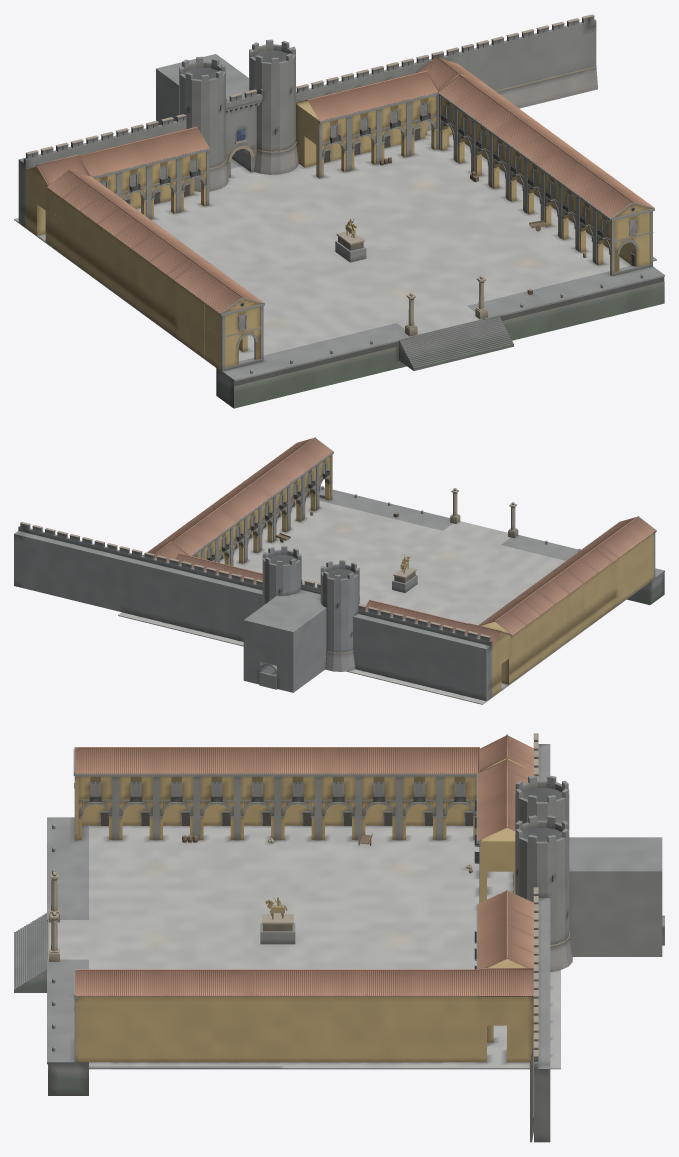
The model's file is terreiro.glb.
3 renders of one model, top to bottom at view 1: azimuth 30°, elevation 25°; view 2: azimuth 150°, elevation 25°; view 3: azimuth 270°, elevation 25°, orthographic. The views are drawn at different scales.
Visible parts, largest first — view 1: merged_terreiro_open_-3_-2, merged_terreiro_open_-3_-1, merged_terreiro_open_-2_-2, merged_terreiro_open_-1_-1, merged_terreiro_open_-1_-2, merged_terreiro_open_-2_-1, merged_terreiro_open_0_-3, tower_drum_8.002, tower_drum_8.001, water_stair_20.001, merged_terreiro_open_-1_-3, merged_terreiro_open_-3_-3 (+7 smaller); view 2: merged_terreiro_open_-2_-1, merged_terreiro_open_-1_-1, merged_terreiro_open_-3_-1, merged_terreiro_open_-3_-3, merged_terreiro_open_-3_-2, merged_terreiro_open_-1_-3, gate_passage_16.001, merged_terreiro_open_-1_-2, merged_terreiro_open_0_-3, tower_drum_8.001, merged_terreiro_open_-2_-3, merged_terreiro_open_-2_-2 (+3 smaller); view 3: merged_terreiro_open_-3_-2, merged_terreiro_open_-3_-1, merged_terreiro_open_-1_-2, merged_terreiro_open_-1_-1, merged_terreiro_open_-2_-1, merged_terreiro_open_-2_-2, gate_passage_16.001, tower_drum_8.002, merged_terreiro_open_-1_-3, merged_terreiro_open_0_-3, water_stair_20.001, tower_drum_8.001 (+4 smaller).
Part boxes in pixels (x1,y1,x2,y2): merged_terreiro_open_-3_-2: (25, 127, 269, 307); merged_terreiro_open_-3_-1: (129, 233, 394, 408); merged_terreiro_open_-2_-2: (184, 85, 449, 269); merged_terreiro_open_-1_-1: (450, 137, 664, 332); merged_terreiro_open_-1_-2: (358, 56, 567, 225); merged_terreiro_open_-2_-1: (270, 225, 544, 369); merged_terreiro_open_0_-3: (504, 14, 597, 108); tower_drum_8.002: (249, 39, 298, 174); tower_drum_8.001: (179, 56, 228, 191); water_stair_20.001: (399, 316, 513, 370); merged_terreiro_open_-1_-3: (354, 36, 506, 157); merged_terreiro_open_-3_-3: (14, 117, 175, 236); merged_terreiro_open_-2_-1: (313, 508, 531, 605); merged_terreiro_open_-1_-1: (225, 437, 407, 568); merged_terreiro_open_-3_-1: (463, 516, 664, 634); merged_terreiro_open_-3_-3: (362, 607, 501, 704); merged_terreiro_open_-3_-2: (366, 568, 584, 696); merged_terreiro_open_-1_-3: (88, 540, 220, 639); gate_passage_16.001: (243, 594, 326, 692); merged_terreiro_open_-1_-2: (142, 489, 312, 577); merged_terreiro_open_0_-3: (14, 522, 93, 603); tower_drum_8.001: (320, 560, 359, 671); merged_terreiro_open_-2_-3: (213, 570, 369, 689); merged_terreiro_open_-2_-2: (225, 565, 461, 617); merged_terreiro_open_-3_-2: (277, 734, 533, 902); merged_terreiro_open_-3_-1: (47, 747, 291, 908); merged_terreiro_open_-1_-2: (277, 924, 533, 1069); merged_terreiro_open_-1_-1: (47, 969, 277, 1095); merged_terreiro_open_-2_-1: (47, 897, 291, 993); merged_terreiro_open_-2_-2: (291, 889, 533, 969); gate_passage_16.001: (569, 837, 662, 956); tower_drum_8.002: (515, 815, 572, 972); merged_terreiro_open_-1_-3: (507, 921, 560, 1089); merged_terreiro_open_0_-3: (530, 1007, 550, 1142); water_stair_20.001: (14, 912, 48, 992); tower_drum_8.001: (514, 775, 569, 893).
Size of the model in its own units: 114 by 27.3 by 96.5.
